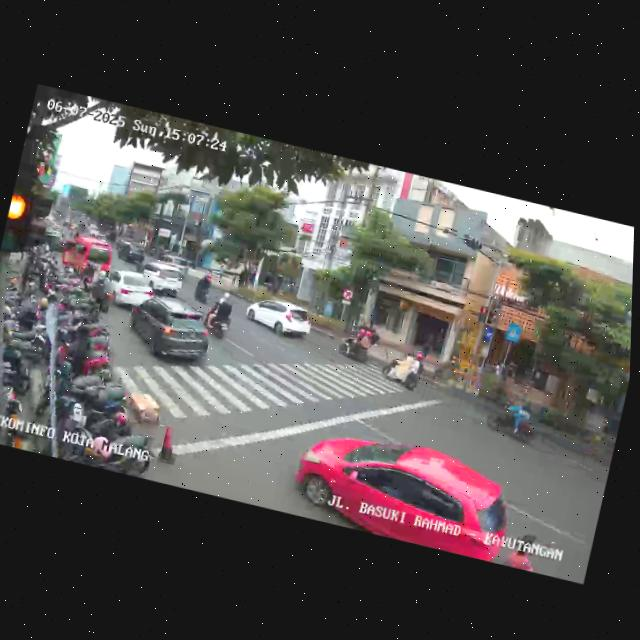car: (285, 417, 522, 565), (122, 292, 218, 373), (242, 292, 318, 345), (57, 232, 117, 285), (99, 266, 157, 315), (132, 256, 187, 301), (121, 244, 148, 270)
motorcycle: (487, 393, 541, 449), (380, 344, 426, 398), (335, 323, 379, 369), (202, 290, 238, 341), (191, 272, 214, 306)
